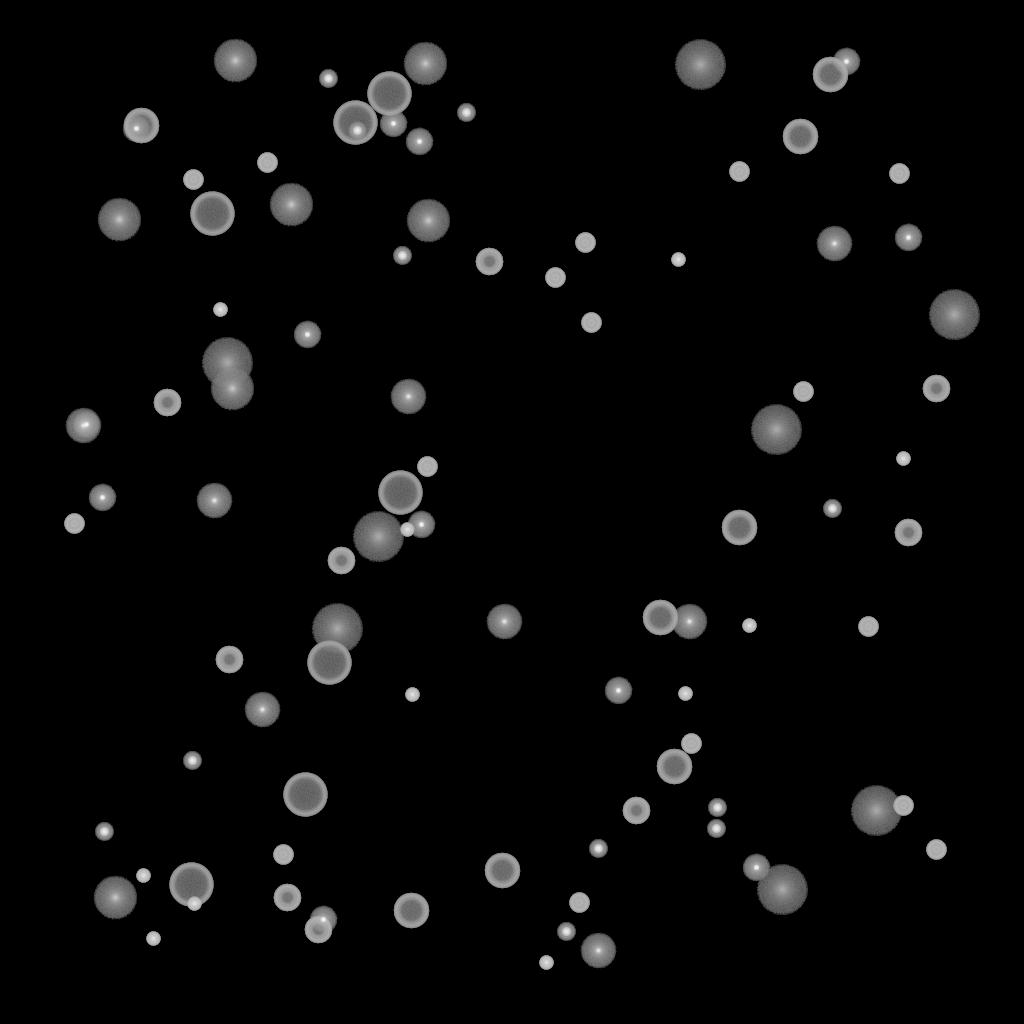depth:-10: (405, 128, 433, 156), (309, 906, 337, 934), (72, 411, 100, 439), (742, 854, 770, 882), (122, 115, 150, 143), (293, 321, 321, 349), (604, 677, 632, 705), (407, 511, 435, 539), (88, 484, 116, 512), (894, 224, 922, 252), (379, 110, 407, 138), (832, 48, 860, 76)
depth:-20: (393, 247, 411, 265), (457, 104, 475, 122), (348, 122, 366, 140), (823, 500, 841, 518), (708, 799, 726, 817), (707, 820, 725, 838), (589, 840, 607, 858), (557, 923, 575, 941), (183, 752, 201, 770), (95, 823, 113, 841), (319, 70, 337, 88)
depth:-30: (146, 932, 160, 946), (400, 523, 414, 537), (187, 897, 201, 911), (742, 619, 756, 633), (136, 869, 150, 883), (405, 688, 419, 702), (896, 452, 910, 466), (539, 956, 553, 970), (213, 303, 227, 317), (678, 687, 692, 701), (671, 253, 685, 267)
depth:-40: (273, 845, 293, 865), (581, 313, 601, 333), (889, 164, 909, 184), (729, 162, 749, 182), (681, 734, 701, 754), (893, 796, 913, 816), (257, 153, 277, 173), (926, 840, 946, 860), (793, 382, 813, 402), (417, 457, 437, 477), (575, 233, 595, 253), (183, 170, 203, 190), (858, 617, 878, 637), (64, 514, 84, 534), (569, 893, 589, 913), (545, 268, 565, 288)
depth:-50: (215, 646, 243, 674), (304, 916, 332, 944), (273, 884, 301, 912), (153, 389, 181, 417), (475, 248, 503, 276), (922, 375, 950, 403), (622, 797, 650, 825), (894, 519, 922, 547), (327, 547, 355, 575)
depth:-60: (782, 119, 818, 155), (484, 853, 520, 889), (393, 893, 429, 929), (656, 749, 692, 785), (123, 108, 159, 144), (812, 57, 848, 93), (642, 600, 678, 636), (721, 510, 757, 546)
depth:-70: (169, 863, 213, 907), (378, 471, 422, 515), (283, 773, 327, 817), (367, 72, 411, 116), (190, 192, 234, 236), (307, 641, 351, 685), (333, 101, 377, 145)
depth:0: (390, 379, 426, 415), (244, 692, 280, 728), (196, 483, 232, 519), (580, 933, 616, 969), (671, 604, 707, 640), (486, 604, 522, 640), (816, 226, 852, 262), (65, 408, 101, 444)
depth:10: (403, 42, 447, 86), (97, 198, 141, 242), (406, 199, 450, 243), (269, 183, 313, 227), (210, 367, 254, 411), (93, 876, 137, 920), (213, 39, 257, 83)
depth:20: (928, 290, 980, 340), (352, 512, 404, 562), (311, 604, 363, 654), (674, 40, 726, 90), (850, 786, 902, 836), (756, 865, 808, 915), (201, 338, 253, 388), (750, 405, 802, 455)
